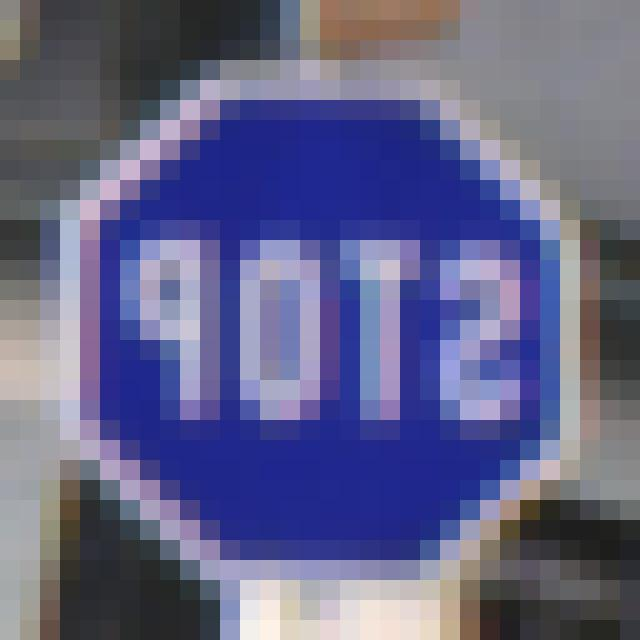STOP: (42, 86, 616, 576)
